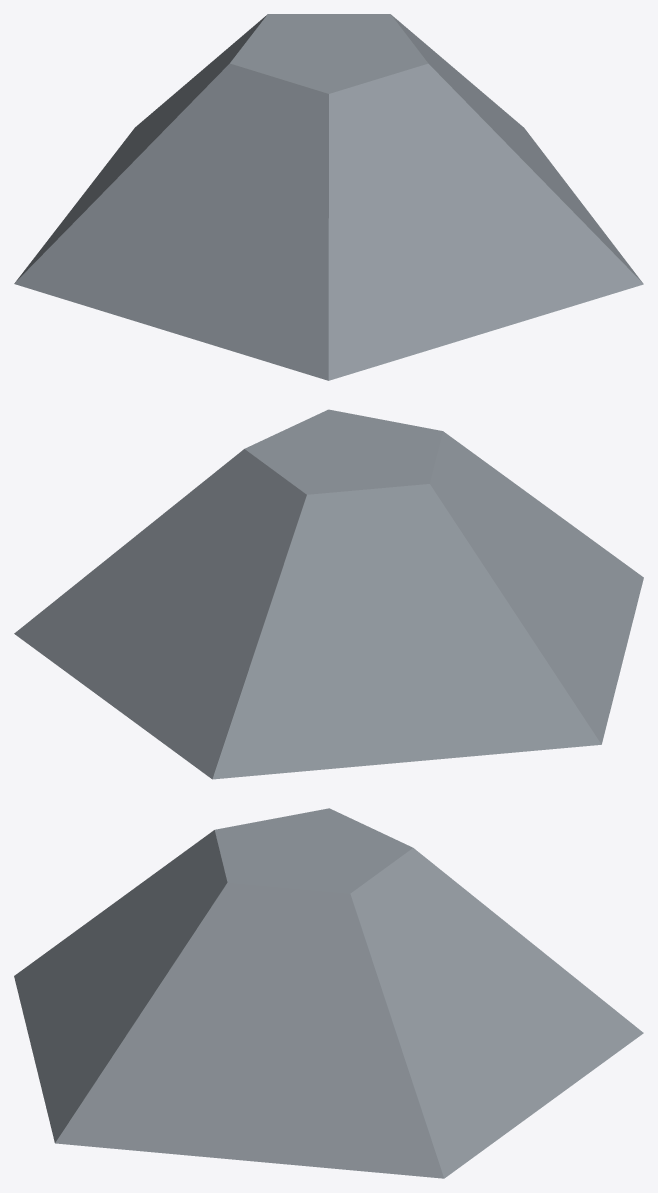
The model's file is Rock_Round_s_05.fbx.
3 views of the same model, one above another, from view 1: azimuth 30°, elevation 25°; view 2: azimuth 150°, elevation 25°; view 3: azimuth 270°, elevation 25° (orthographic). The views are drawn at different scales.
Parts seen in each view (by area): view 1: Rock_Round_s_05; view 2: Rock_Round_s_05; view 3: Rock_Round_s_05.
Part boxes in pixels (x1=…): Rock_Round_s_05: x1=14, y1=14, x2=643, y2=380; Rock_Round_s_05: x1=14, y1=409, x2=643, y2=779; Rock_Round_s_05: x1=14, y1=808, x2=643, y2=1178.
Bounding box in the file's own units: 0.1643 × 0.0553 × 0.1615.
